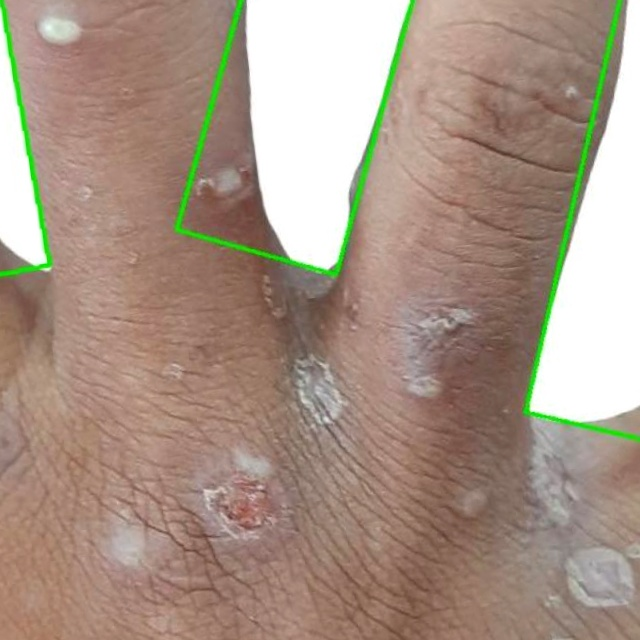Scabies: (176, 0, 412, 275), (497, 0, 639, 456)
